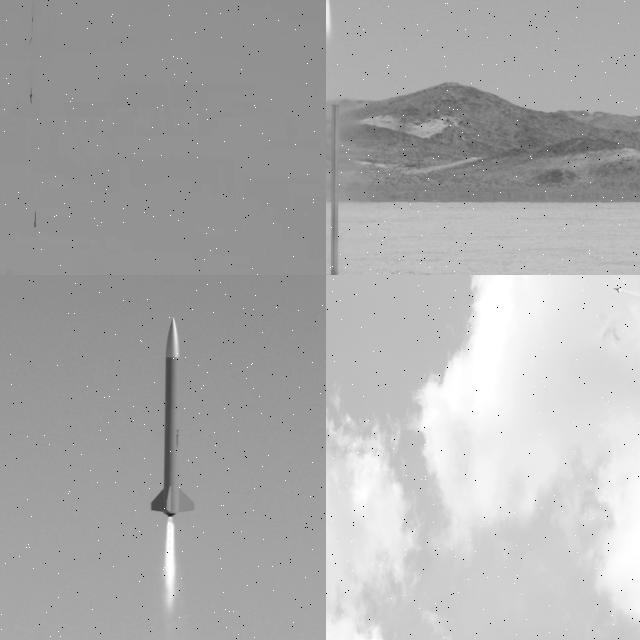Rocket: (149, 316, 196, 518), (33, 211, 37, 227), (613, 287, 621, 294)
